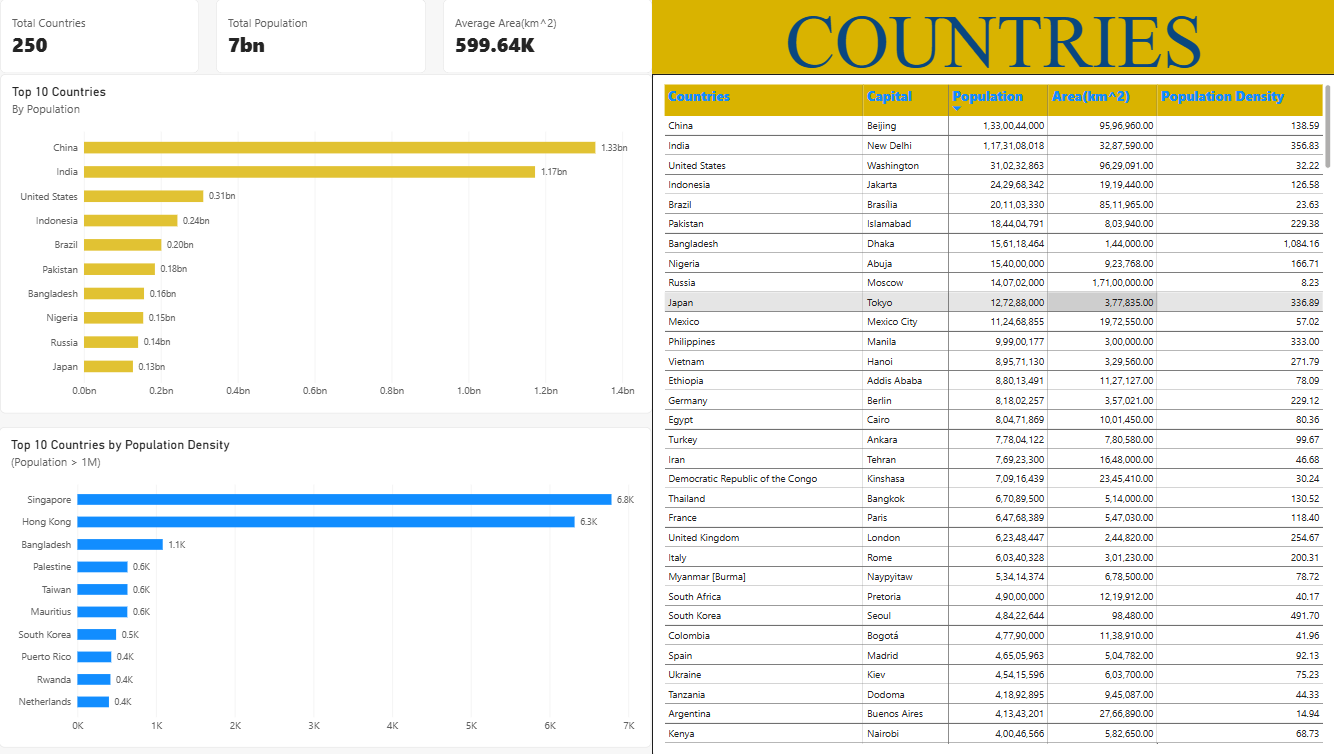

The page's visual inventory and layout, read from the dashboard file:
{"tool":"powerbi","page":{"name":"Page 1","canvas":[1920,1080],"ordinal":0},"visuals":[{"type":"cardVisual","fields":{"Data":["Count(countries.Name)"]},"box":[1.5,0,284.7,106.6],"z":0},{"type":"cardVisual","fields":{"Data":["Sum(countries.Population)"]},"box":[309.5,0,300.8,106.6],"z":1000},{"type":"cardVisual","fields":{"Data":["Avg(countries.Area(km^2))"]},"box":[633.7,0,299.3,106.6],"z":2000},{"type":"clusteredBarChart","title":"Top 10 Countries","fields":{"Category":["countries.Name"],"Y":["Sum(countries.Population)"]},"box":[1.5,106.6,931.5,484.7],"z":3000},{"type":"clusteredBarChart","title":"Top 10 Countries by Population Density","fields":{"Category":["countries.Name"],"Y":["Sum(countries.Population Density)"]},"box":[0,611.8,932,458],"z":4000},{"type":"tableEx","fields":{"Values":["countries.Name","countries.Capital","Sum(countries.Population)","Sum(countries.Area(km^2))","Sum(countries.Population Density)"]},"box":[933,106.6,987,973.9],"z":5000},{"type":"textbox","box":[933,0,987,106.6],"z":6000}]}

Visuals, with their boxes in screenshot pixels (x1, y1, x2, y2), scaled from the page's 1920x1080 canvas onto the 1334x754 screenshot:
cardVisual - Count(countries.Name): rect(1, 0, 199, 74)
cardVisual - Sum(countries.Population): rect(215, 0, 424, 74)
cardVisual - Avg(countries.Area(km^2)): rect(440, 0, 648, 74)
"Top 10 Countries" clusteredBarChart: rect(1, 74, 648, 413)
"Top 10 Countries by Population Density" clusteredBarChart: rect(0, 427, 648, 747)
tableEx - countries.Name x countries.Capital: rect(648, 74, 1333, 753)
textbox: rect(648, 0, 1333, 74)
